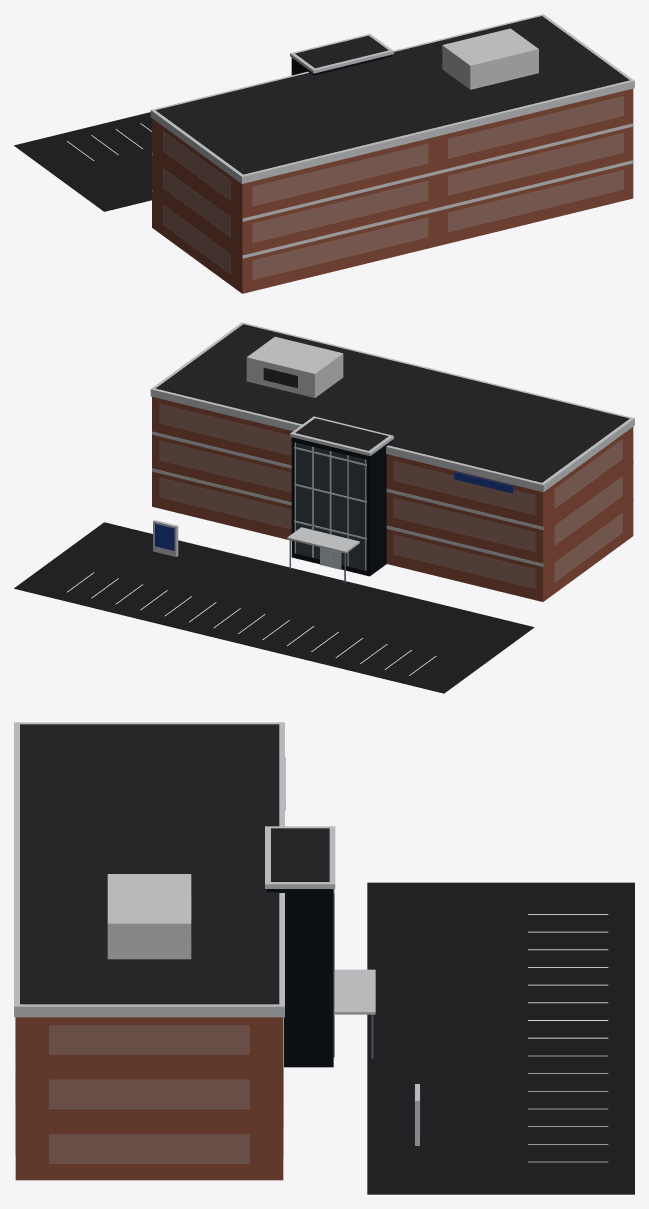
File: context.type.business_centre.glb
3 renders of one model, top to bottom at view 1: azimuth 30°, elevation 25°; view 2: azimuth 150°, elevation 25°; view 3: azimuth 270°, elevation 25°, orthographic. The views are drawn at different scales.
Parts seen in each view (by area): view 1: walls__brick, roof__roof_felt, openings__glass, roof__aluminium, ground__asphalt, openings__aluminium, walls__glass_dark; view 2: walls__brick, ground__asphalt, roof__roof_felt, openings__glass, roof__aluminium, walls__glass_dark, openings__aluminium, ground__paint_white; view 3: ground__asphalt, roof__roof_felt, walls__brick, roof__aluminium, openings__glass, walls__glass_dark, ground__paint_white.
Boxes of the visible parts, bbox=[...] form: walls__brick: bbox=[152, 88, 633, 293]; roof__roof_felt: bbox=[156, 16, 629, 174]; openings__glass: bbox=[163, 96, 623, 279]; roof__aluminium: bbox=[150, 14, 634, 183]; ground__asphalt: bbox=[14, 112, 151, 211]; openings__aluminium: bbox=[152, 123, 633, 258]; walls__glass_dark: bbox=[291, 54, 392, 75]; walls__brick: bbox=[152, 397, 633, 601]; ground__asphalt: bbox=[14, 522, 534, 693]; roof__roof_felt: bbox=[156, 324, 629, 482]; openings__glass: bbox=[159, 404, 622, 588]; roof__aluminium: bbox=[150, 322, 634, 553]; walls__glass_dark: bbox=[291, 437, 392, 576]; openings__aluminium: bbox=[152, 431, 633, 570]; ground__paint_white: bbox=[67, 572, 436, 675]; ground__asphalt: bbox=[367, 882, 634, 1194]; roof__roof_felt: bbox=[20, 724, 329, 1004]; walls__brick: bbox=[15, 1017, 283, 1180]; roof__aluminium: bbox=[14, 722, 375, 1017]; openings__glass: bbox=[15, 1017, 283, 1163]; walls__glass_dark: bbox=[266, 889, 333, 1067]; ground__paint_white: bbox=[528, 914, 608, 1162].
Bounding box in the file's own units: 44 × 13.94 × 37.1.
